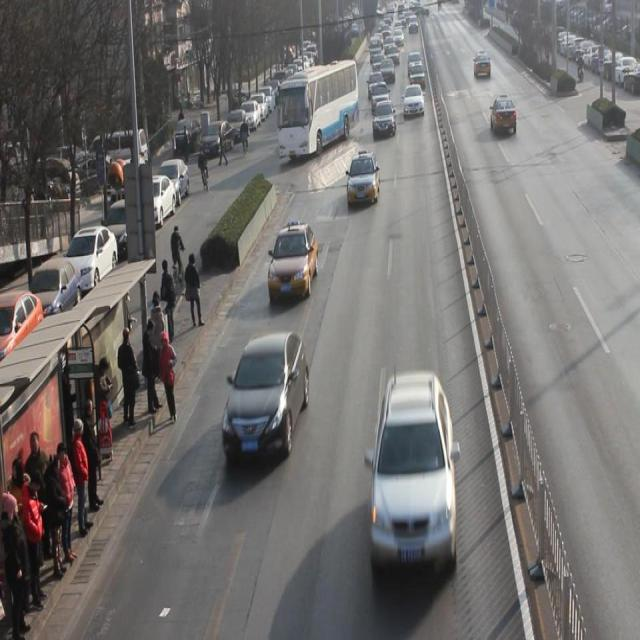car: (372, 370, 458, 567), (222, 329, 310, 460), (268, 224, 320, 299), (347, 153, 382, 206), (490, 94, 518, 136), (373, 100, 397, 138), (404, 84, 426, 117), (371, 81, 392, 113)
van: (278, 60, 359, 157)
